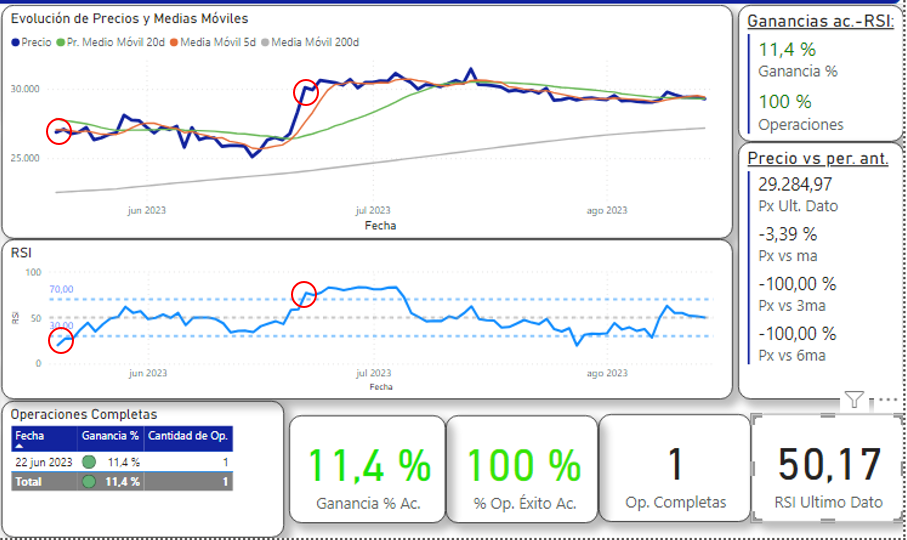

This screenshot's page, from the dashboard's own definition file:
{"tool":"powerbi","page":{"name":"Evolución Métricas","canvas":[1280,720],"ordinal":3},"visuals":[{"type":"lineChart","title":"Evolución de Precios y Medias Móviles","fields":{"Y":["Sum(Evolución_histórica.Precio)","Evolución_histórica.Pr. Medio Móvil 20d","Evolución_histórica.Media Móvil 5d","Evolución_histórica.Media Móvil 200d"],"Category":["Calendario.Fecha"]},"box":[191.7,77.6,882.4,282.4],"z":0},{"type":"tableEx","title":"Operaciones Completas","fields":{"Values":["Calendario.Fecha","GananciasHistóricas.Ganancia %","GananciasHistóricas.Operaciones completas"]},"box":[191.7,554.6,341,165.4],"z":1000},{"type":"slicer","fields":{"Values":["Criptos_criterio.Id"]},"box":[0,219.5,175.6,278],"z":2000},{"type":"slicer","fields":{"Values":["Calendario.Año"]},"box":[0,497.6,177.1,80.5],"z":3000},{"type":"slicer","fields":{"Values":["Calendario.Fecha"]},"box":[0,578,175.6,142],"z":4000},{"type":"shape","title":"Hola","box":[1.5,0,1279,77.6],"z":5000},{"type":"pageNavigator","box":[682,10.2,582.4,58.5],"z":6000},{"type":"lineChart","title":"RSI","fields":{"Y":["Sum(Evolución_histórica.RSI)"],"Category":["Calendario.Fecha"]},"box":[191.7,360,882.4,193.2],"z":7000},{"type":"textbox","box":[10.2,10.2,411.2,58.5],"z":8000},{"type":"slicer","fields":{"Values":["Criptos_criterio.Clasificación"]},"box":[0,77.6,177.1,142],"z":9000},{"type":"multiRowCard","title":"Ganancias ac.-RSI:","fields":{"Values":["GananciasHistóricas.Ganancia %","GananciasHistóricas.Operaciones con ganancia"]},"box":[1080,77.6,200.5,165.4],"z":10000},{"type":"card","title":"Ganancias -RSI:","fields":{"Values":["Evolución_histórica.RSI ult dato"]},"box":[1080,572.2,200.5,130.2],"z":11000},{"type":"multiRowCard","title":"Ganancias -RSI:","fields":{"Values":["Evolución_histórica.Px Ult. Dato","Evolución_histórica.Px vs ma","Evolución_histórica.Px vs 3ma","Evolución_histórica.Px vs 6ma"]},"box":[1080,242.9,200.5,310.2],"z":12000},{"type":"card","title":"Ganancias -RSI:","fields":{"Values":["GananciasHistóricas.Operaciones con ganancia"]},"box":[841.5,572.2,200.5,130.2],"z":13000},{"type":"card","title":"Ganancias -RSI:","fields":{"Values":["GananciasHistóricas.Ganancia %"]},"box":[570.7,572.2,222.4,130.2],"z":14000}]}

Visuals, with their boxes on the page's 1280x720 design canvas (x1, y1, x2, y2). These are canvas units, not pixel positions in the 907x540 screenshot, which may show the page scaled, cropped or inside an application window:
"Evolución de Precios y Medias Móviles" lineChart: box=[192, 78, 1074, 360]
"Operaciones Completas" tableEx: box=[192, 555, 533, 720]
slicer - Criptos_criterio.Id: box=[0, 220, 176, 498]
slicer - Calendario.Año: box=[0, 498, 177, 578]
slicer - Calendario.Fecha: box=[0, 578, 176, 720]
"Hola" shape: box=[2, 0, 1280, 78]
pageNavigator: box=[682, 10, 1264, 69]
"RSI" lineChart: box=[192, 360, 1074, 553]
textbox: box=[10, 10, 421, 69]
slicer - Criptos_criterio.Clasificación: box=[0, 78, 177, 220]
"Ganancias ac.-RSI:" multiRowCard: box=[1080, 78, 1280, 243]
"Ganancias -RSI:" card: box=[1080, 572, 1280, 702]
"Ganancias -RSI:" multiRowCard: box=[1080, 243, 1280, 553]
"Ganancias -RSI:" card: box=[842, 572, 1042, 702]
"Ganancias -RSI:" card: box=[571, 572, 793, 702]
